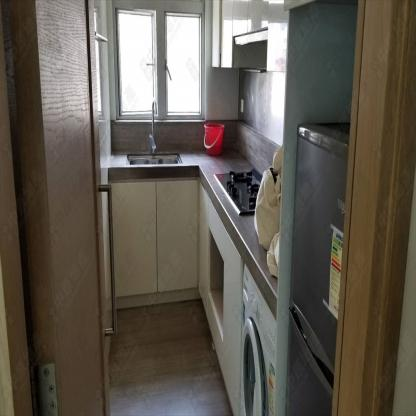Cupboard: (112, 178, 243, 415)
Exhaust Hood: (233, 28, 267, 45)
Faucet: (148, 98, 160, 154)
Fridge: (286, 121, 350, 415)
Sink: (127, 152, 182, 166)
Stove: (213, 168, 261, 217)
Washing Machine: (240, 261, 276, 415)
